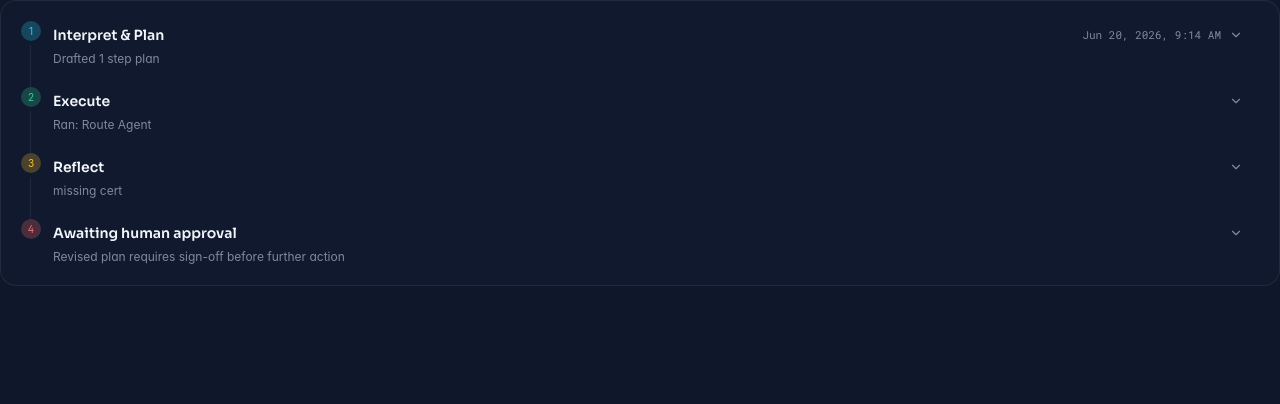
Test: AgentRunTimeline › expands a step detail on click
Click the button "Execute". click: {"x": 82, "y": 101}
box: [45, 87, 1251, 115]
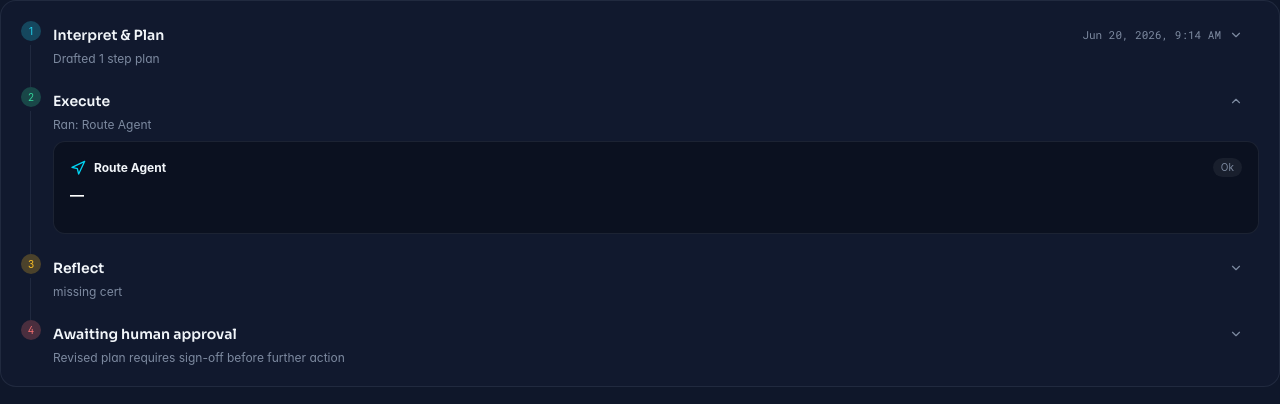
Result: the text "Route Agent" is shown at [94, 160, 166, 176]
